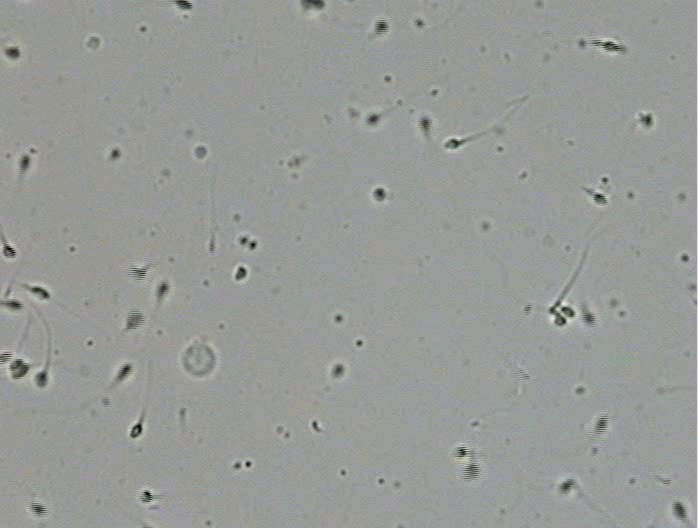Impurity: (182, 343, 216, 377), (86, 36, 100, 49)
S: (9, 359, 30, 379), (126, 311, 146, 330), (592, 414, 608, 436), (462, 462, 480, 480), (29, 286, 50, 299), (129, 265, 146, 281), (672, 502, 687, 520), (600, 40, 622, 52), (31, 501, 47, 517), (117, 364, 132, 381), (299, 1, 325, 10), (2, 244, 17, 259), (35, 371, 49, 387), (18, 154, 31, 171), (5, 299, 23, 311), (156, 282, 169, 298), (592, 192, 608, 205), (130, 423, 143, 438), (4, 47, 20, 59), (444, 138, 461, 149), (375, 20, 388, 34), (560, 479, 573, 493), (138, 491, 153, 503), (560, 306, 575, 318), (332, 364, 345, 377), (373, 188, 386, 201), (419, 117, 432, 130), (582, 312, 595, 325), (235, 266, 247, 280), (642, 114, 654, 128), (175, 1, 193, 10), (453, 447, 469, 457), (194, 146, 207, 158), (366, 113, 379, 125), (554, 313, 566, 326), (1, 351, 10, 364), (111, 148, 121, 159)
